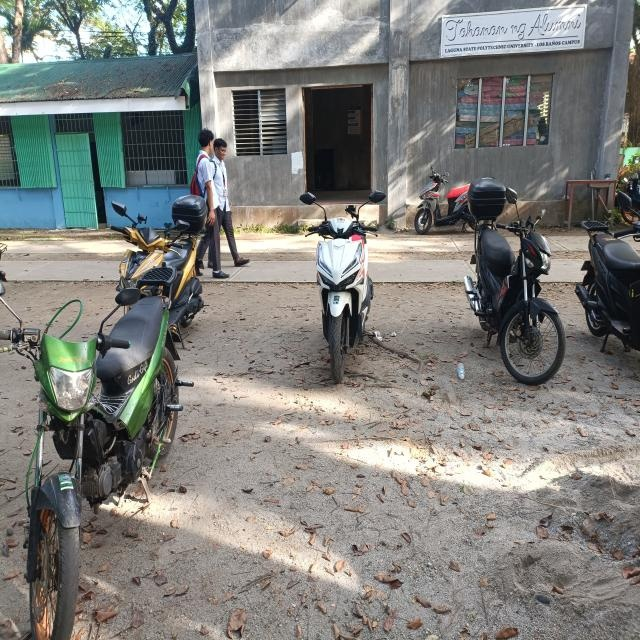Motorcycle: (0, 262, 198, 640), (460, 168, 572, 394), (296, 186, 395, 394), (107, 191, 215, 353), (573, 186, 640, 356), (408, 156, 480, 234)
